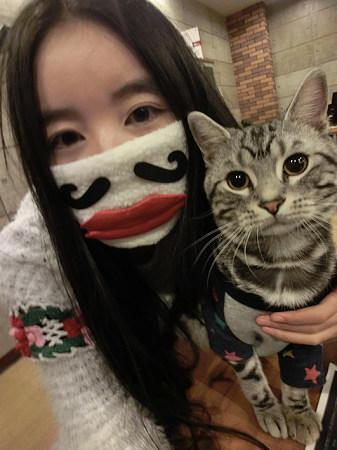OK: (40, 74, 196, 230)
